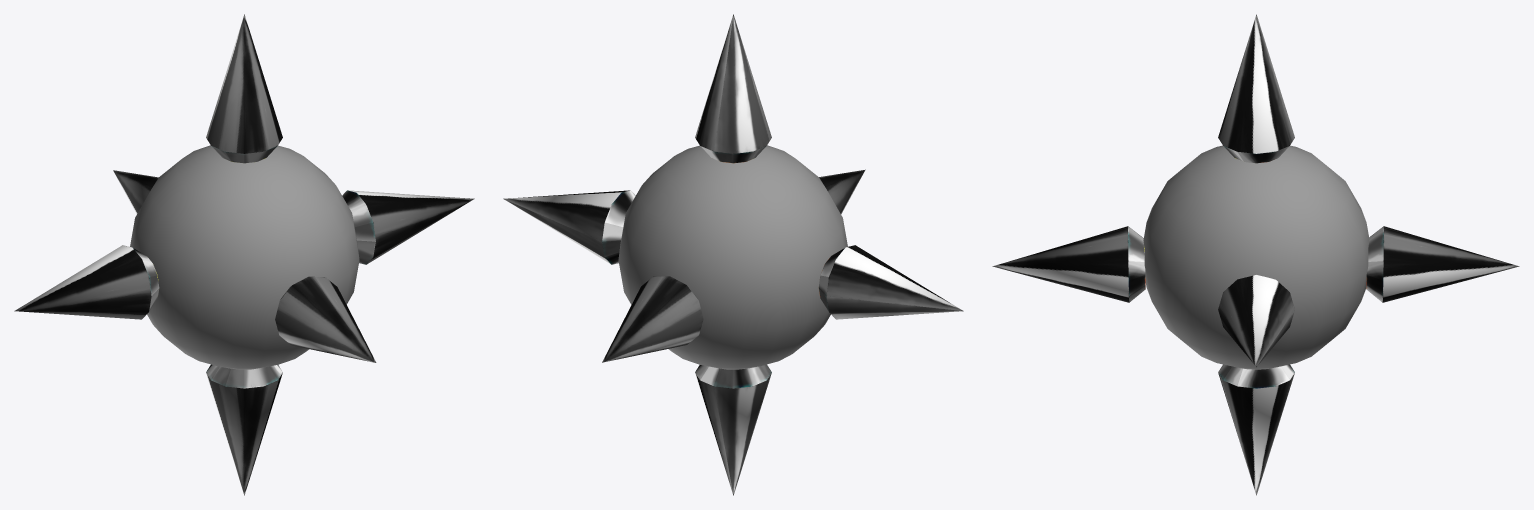
Rendered from Ball_尖刺.FBX.
3 views of the same model, side by side, from view 1: azimuth 30°, elevation 25°; view 2: azimuth 150°, elevation 25°; view 3: azimuth 270°, elevation 25° (orthographic).
Visible parts, largest first — view 1: Sphere001, Object002, Object003, Object001, Cylinder001, Cylinder004, Cylinder003; view 2: Sphere001, Object002, Object003, Cylinder003, Cylinder001, Cylinder004, Object001; view 3: Sphere001, Object001, Cylinder003, Object002, Cylinder001, Cylinder004.
Boxes of the visible parts, box(x1,y1,x2,y2) form: Sphere001: box(130, 145, 359, 369); Object002: box(206, 14, 282, 163); Object003: box(14, 245, 159, 319); Object001: box(275, 276, 376, 362); Cylinder001: box(206, 364, 282, 495); Cylinder004: box(342, 190, 474, 264); Cylinder003: box(113, 170, 158, 213); Sphere001: box(618, 145, 847, 369); Object002: box(695, 14, 771, 163); Object003: box(818, 245, 963, 319); Cylinder003: box(602, 276, 703, 362); Cylinder001: box(695, 364, 771, 495); Cylinder004: box(503, 190, 635, 264); Object001: box(819, 169, 865, 214); Sphere001: box(1143, 145, 1369, 369); Object001: box(992, 226, 1145, 302); Cylinder003: box(1366, 226, 1519, 302); Object002: box(1218, 14, 1294, 163); Cylinder001: box(1218, 364, 1294, 495); Cylinder004: box(1218, 275, 1294, 366).
Size of the model in its own units: 77.77 by 77.77 by 77.12.
Materials: 2 (1 with a texture image).
